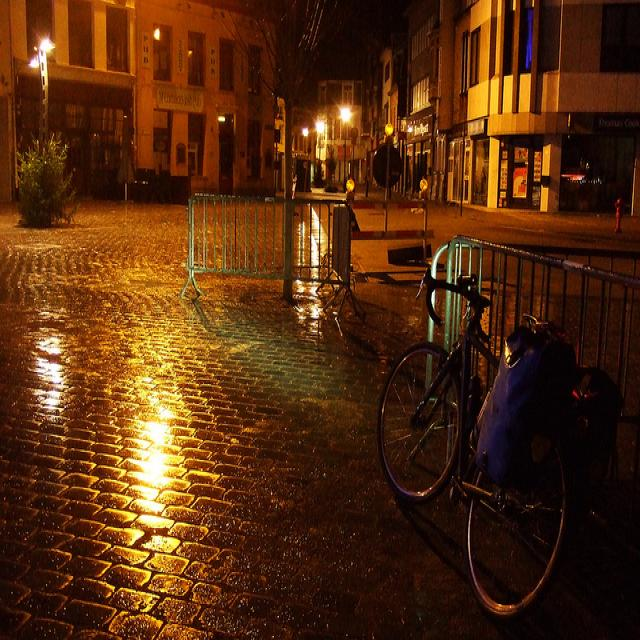Bicycle: (372, 233, 616, 640)
